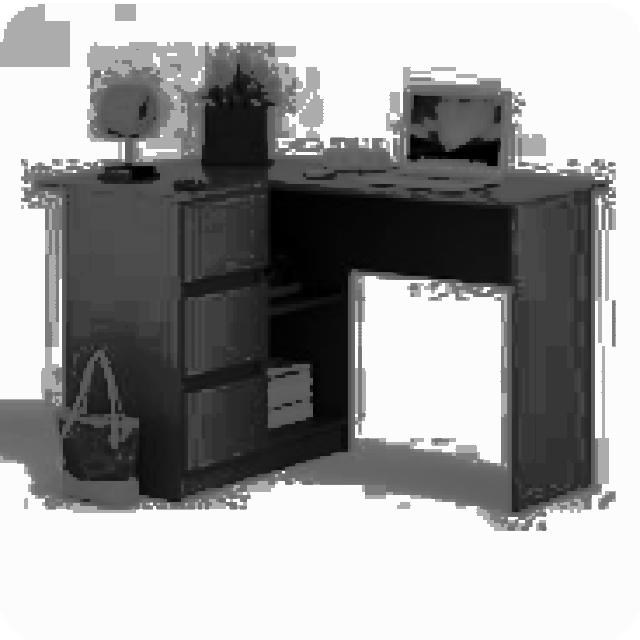table: (34, 152, 608, 513)
